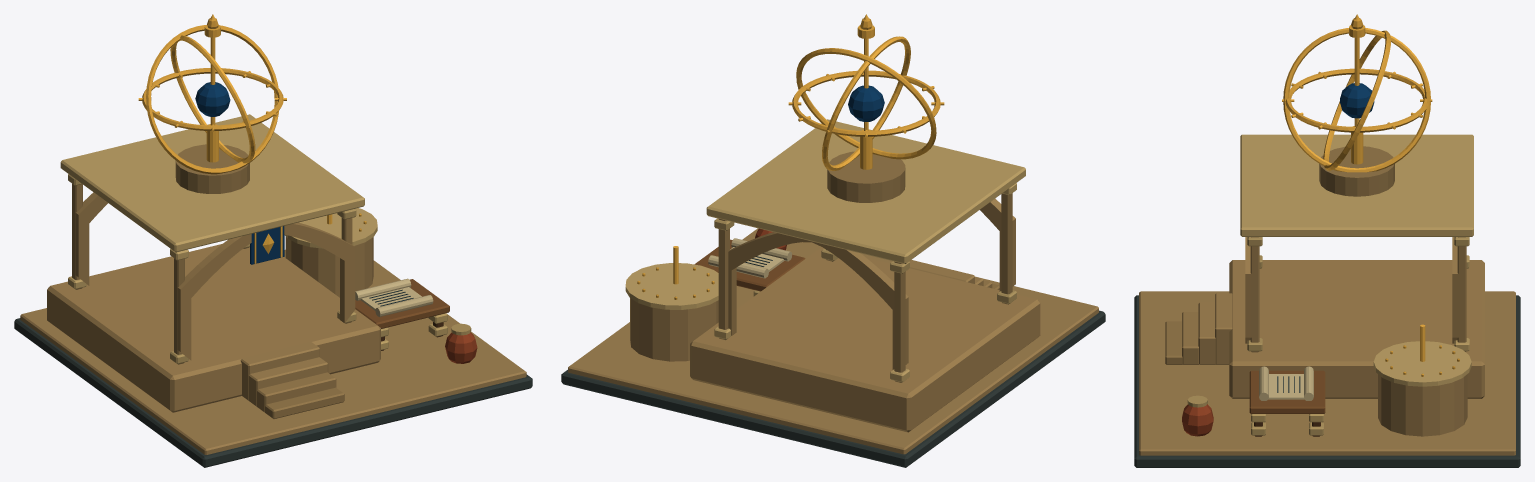
The model's file is laboratory.glb.
The picture shows the model from 3 angles, left to right: view 1: azimuth 30°, elevation 25°; view 2: azimuth 150°, elevation 25°; view 3: azimuth 270°, elevation 25°; orthographic projection. The views are drawn at different scales.
Parts seen in each view (by area): view 1: laboratory_structure, laboratory_brass; view 2: laboratory_structure, laboratory_brass; view 3: laboratory_structure, laboratory_brass.
Part boxes in pixels (x1,y1,x2,y2): laboratory_structure: [14, 18, 532, 467]; laboratory_brass: [138, 14, 332, 263]; laboratory_structure: [561, 18, 1105, 467]; laboratory_brass: [673, 14, 944, 284]; laboratory_structure: [1134, 18, 1520, 467]; laboratory_brass: [1282, 14, 1432, 361].
Bounding box in the file's own units: 5.6 × 5.61 × 5.6.
